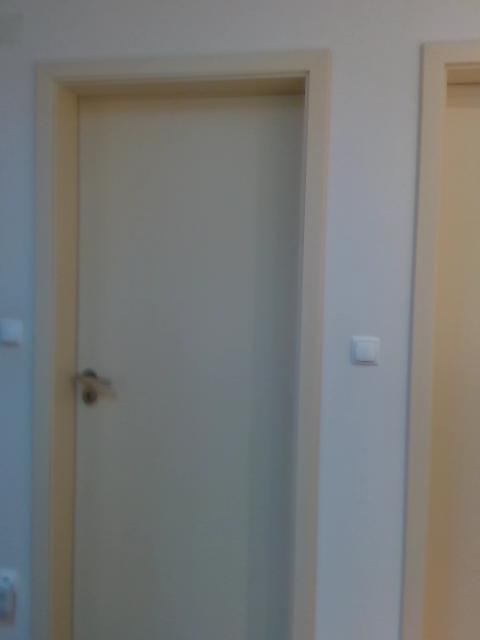closed_door: (33, 44, 330, 639)
